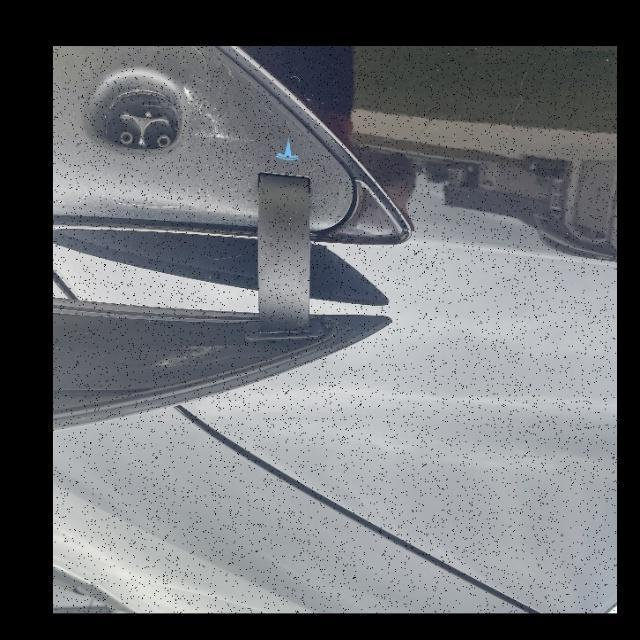Tesla Model-S-: (78, 62, 193, 177)
